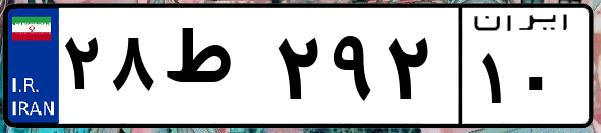0: (525, 38, 570, 115)
1: (475, 38, 525, 113)
2: (270, 28, 330, 110), (385, 28, 445, 110), (57, 26, 110, 100)
8: (110, 28, 158, 98)
9: (330, 28, 385, 110)
ط: (158, 20, 270, 120)
